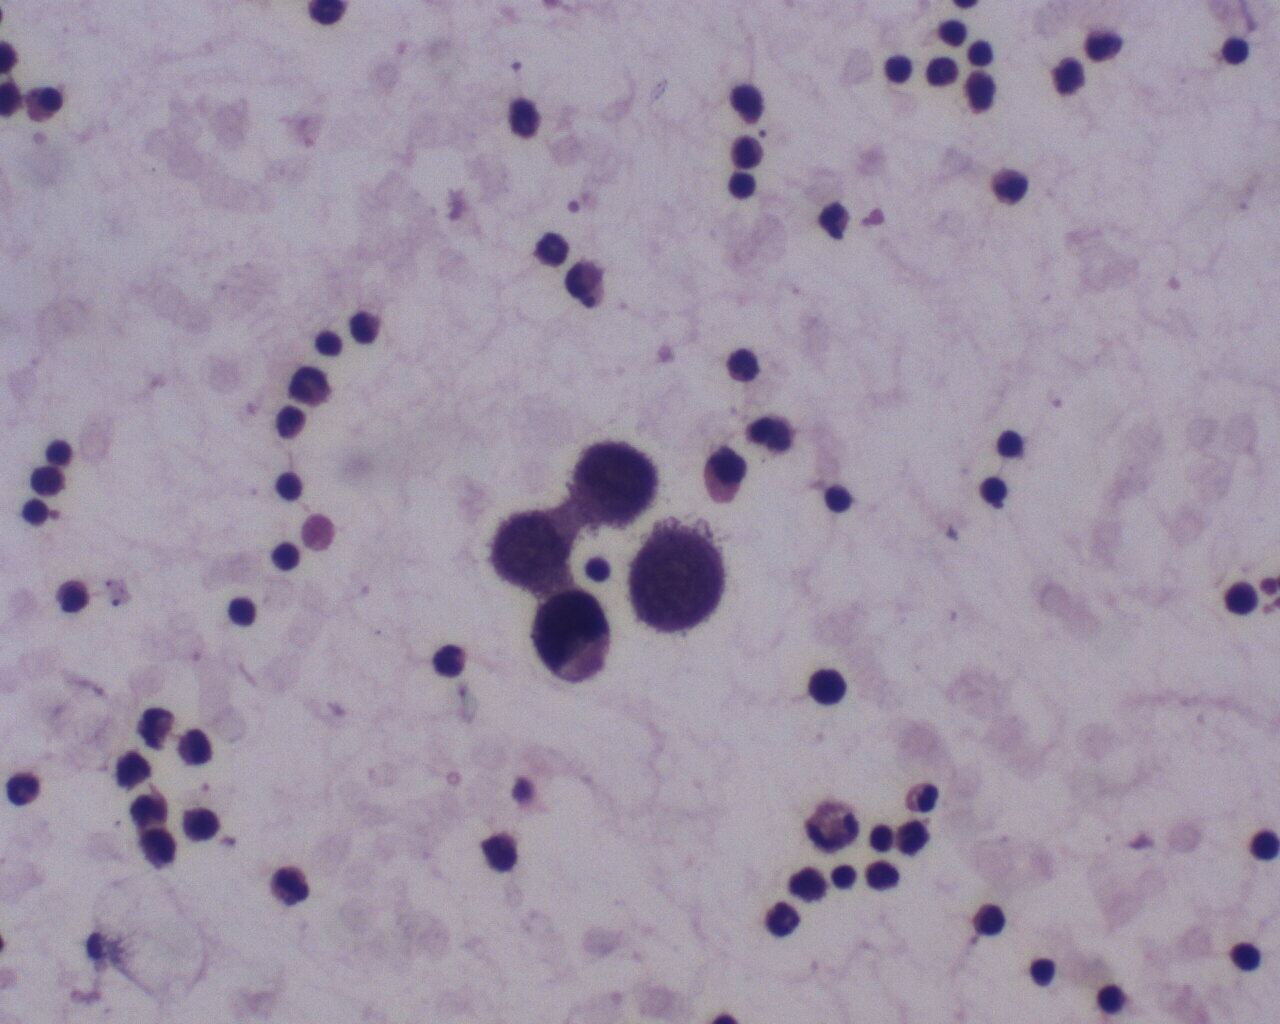ab: (627, 522, 734, 637), (531, 585, 616, 689), (487, 503, 577, 597), (571, 437, 656, 527)
lymph: (808, 661, 852, 711), (430, 639, 470, 683), (225, 590, 262, 629), (1225, 940, 1266, 974), (723, 168, 760, 206), (1095, 980, 1132, 1017), (1215, 34, 1252, 70), (1024, 954, 1061, 988), (315, 327, 351, 362), (882, 52, 917, 87), (273, 469, 311, 501), (822, 481, 857, 514), (21, 496, 54, 530), (963, 38, 998, 70), (994, 426, 1026, 459), (868, 821, 899, 856), (269, 539, 301, 571), (828, 863, 859, 892)
neutro: (4, 762, 43, 812), (757, 899, 802, 938)
